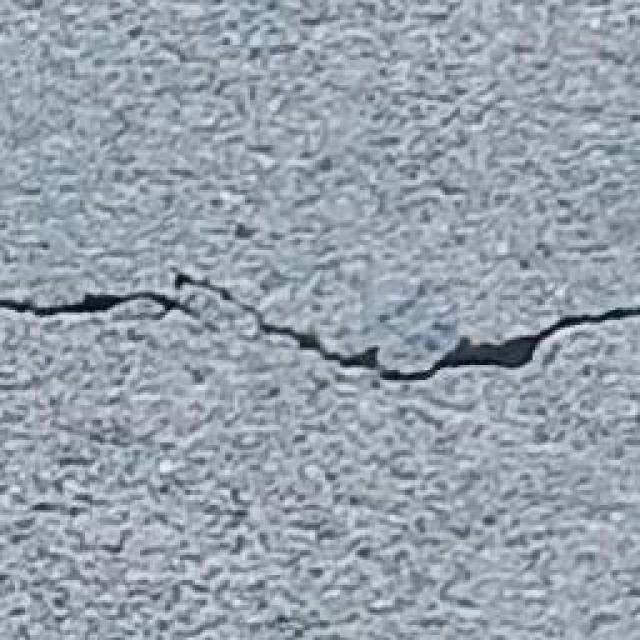concrete-crack: (0, 262, 640, 385)
